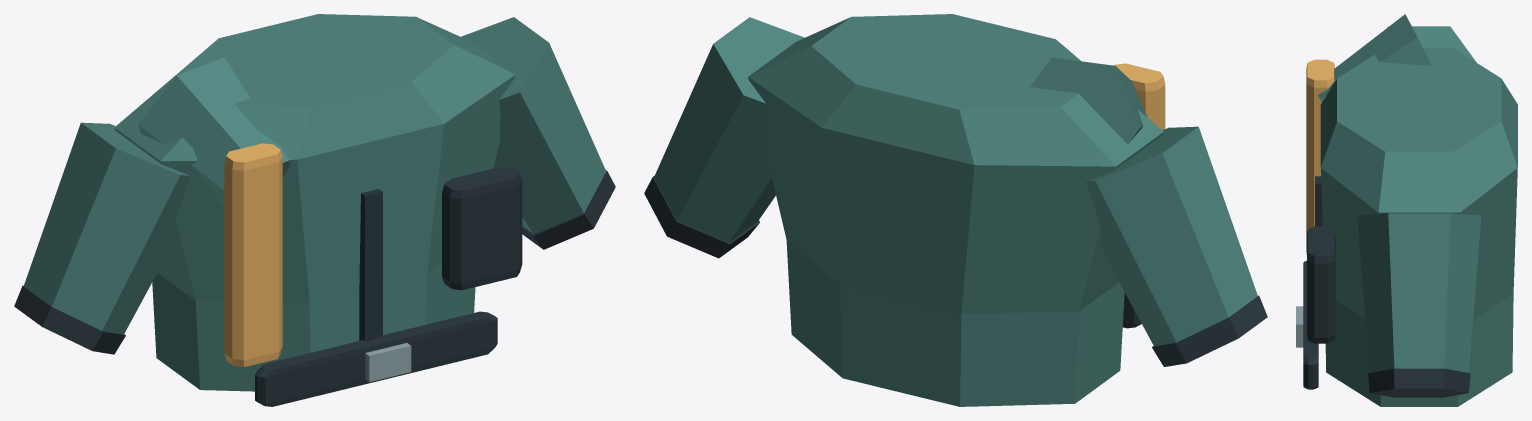
File: SM_NPC_TOP_005_Expedition.glb
3 renders of one model, left to right at view 1: azimuth 30°, elevation 25°; view 2: azimuth 150°, elevation 25°; view 3: azimuth 270°, elevation 25°, orthographic. The views are drawn at different scales.
Parts seen in each view (by area): view 1: SM_NPC_TOP_005_Expedition; view 2: SM_NPC_TOP_005_Expedition; view 3: SM_NPC_TOP_005_Expedition.
Boxes of the visible parts, x1=… form: SM_NPC_TOP_005_Expedition: x1=14, y1=14, x2=615, y2=406; SM_NPC_TOP_005_Expedition: x1=644, y1=14, x2=1267, y2=406; SM_NPC_TOP_005_Expedition: x1=1296, y1=14, x2=1517, y2=406.
Size of the model in its own units: 1.03 by 0.5244 by 0.3888.
